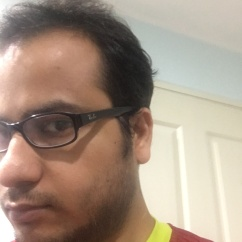glasses: (3, 110, 133, 150)
